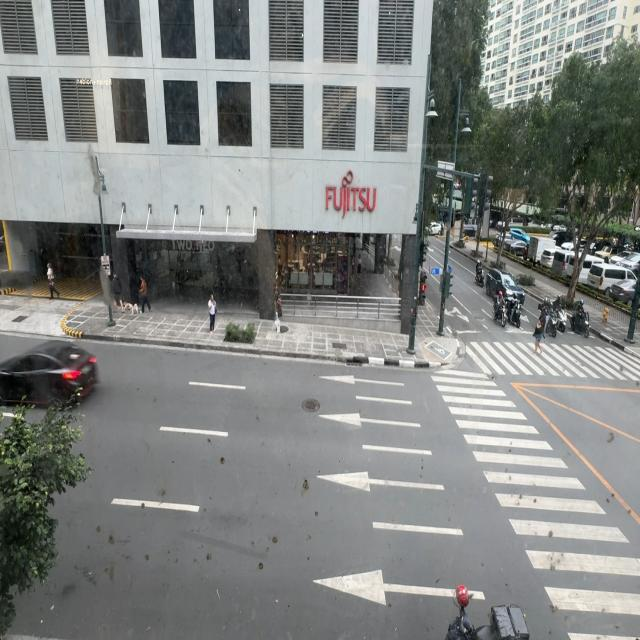crossing: (532, 311, 546, 353)
